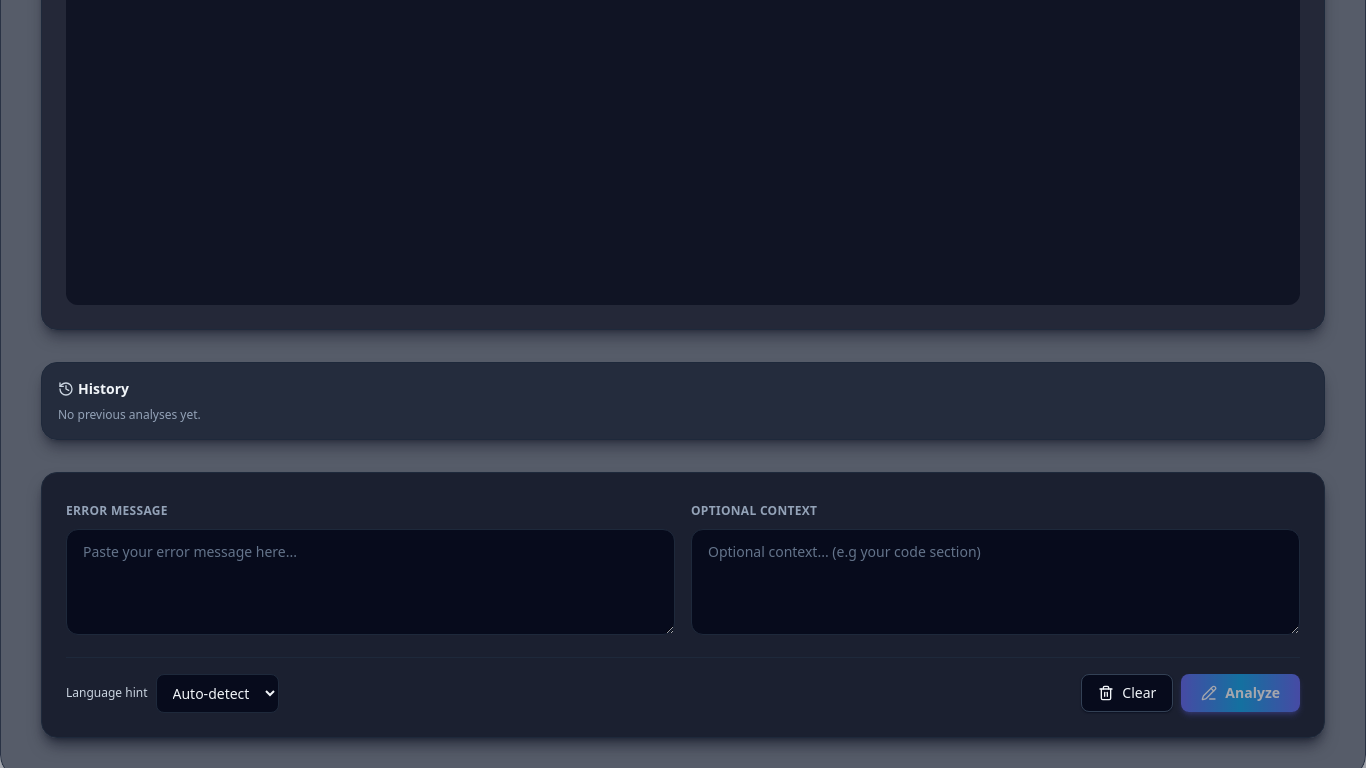
Scenario: AnalyzerPage Component › clears the form when clicking Clear button
The width and height of the screenshot is (1366, 768).
(page scrolled)
Type "something" into the text box with placeholder "Paste your error message here..." at {"x": 370, "y": 582}, box [66, 528, 675, 634]
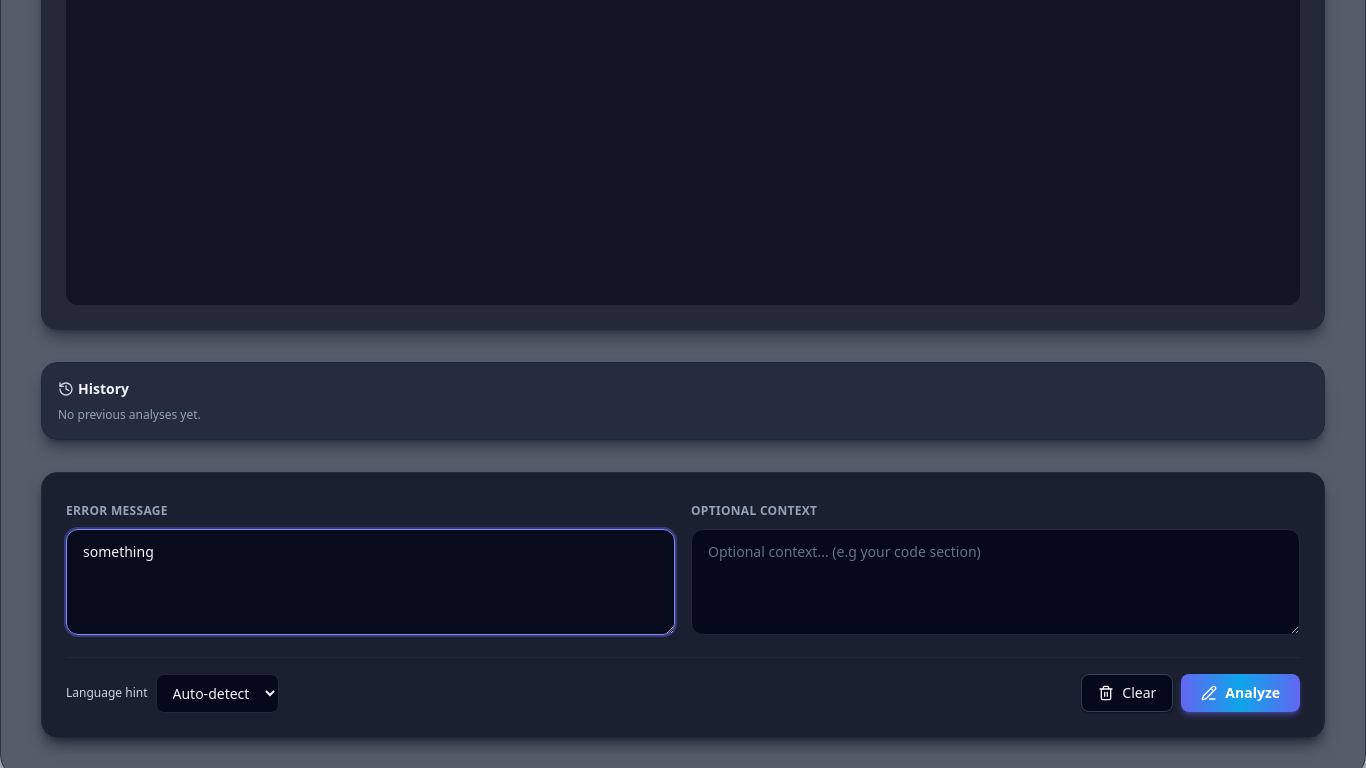
Click the button "Clear" at {"x": 1127, "y": 693}, box [1081, 674, 1173, 712]
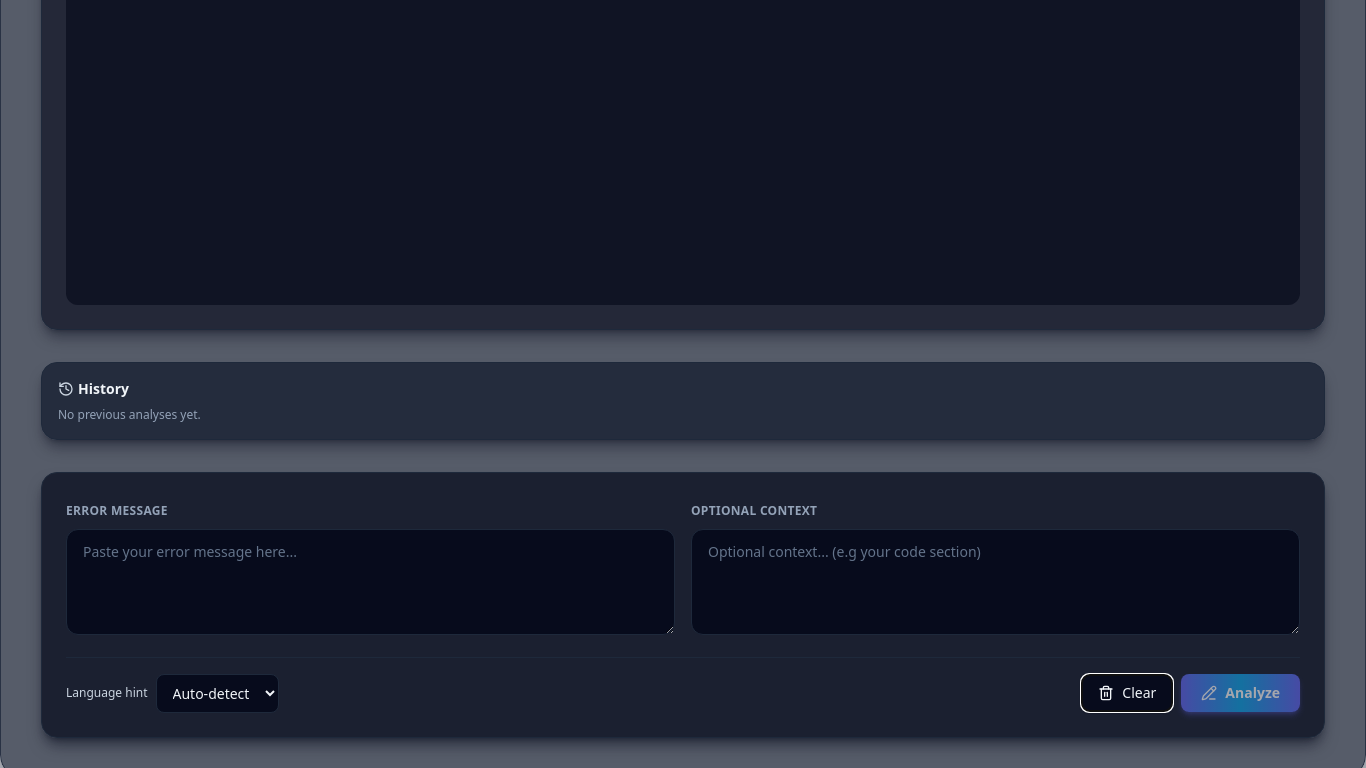
Now the text box with placeholder "Paste your error message here..." is empty, box [66, 528, 675, 634]
